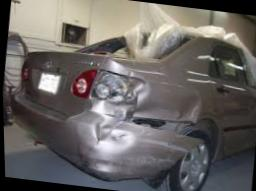Bumper: (73, 108, 204, 179)
Light: (88, 71, 145, 97)
